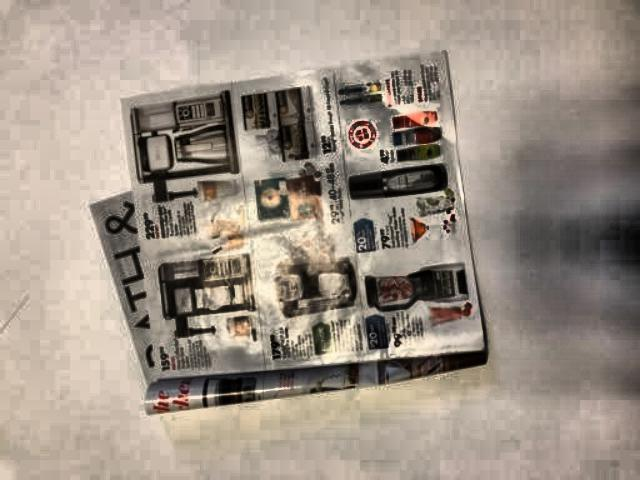Paper: (82, 41, 491, 408)
